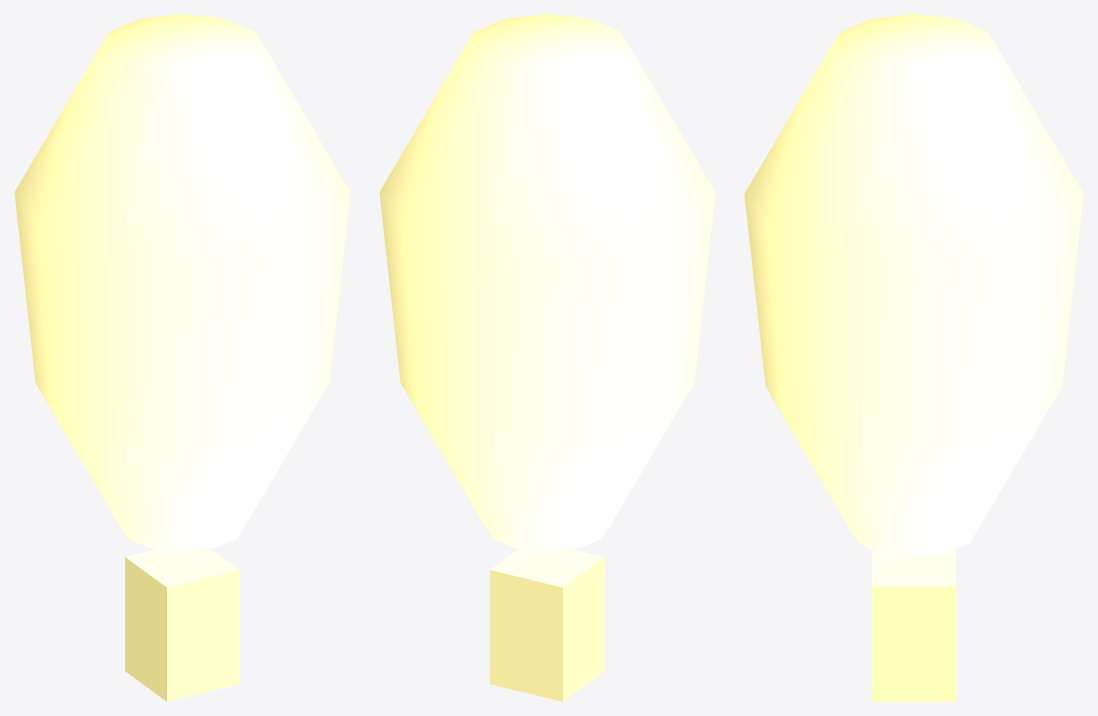
File: 02_bulb.glb
3 views of the same model, side by side, from view 1: azimuth 30°, elevation 25°; view 2: azimuth 150°, elevation 25°; view 3: azimuth 270°, elevation 25° (orthographic).
Visible parts, largest first — view 1: energy_02_bulb; view 2: energy_02_bulb; view 3: energy_02_bulb.
Part boxes in pixels (left/top/right/bottom): energy_02_bulb: left=14, top=14, right=350, bottom=701; energy_02_bulb: left=379, top=14, right=715, bottom=701; energy_02_bulb: left=744, top=14, right=1083, bottom=701.
Bounding box in the file's own units: 0.32 × 0.661 × 0.32.
